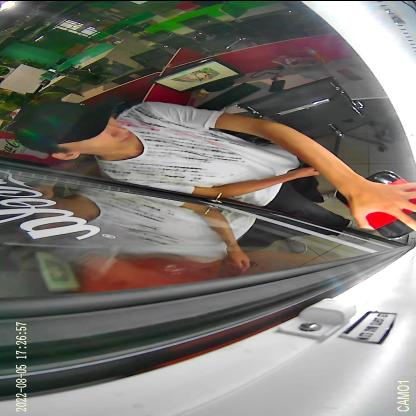red: (336, 168, 416, 240)
